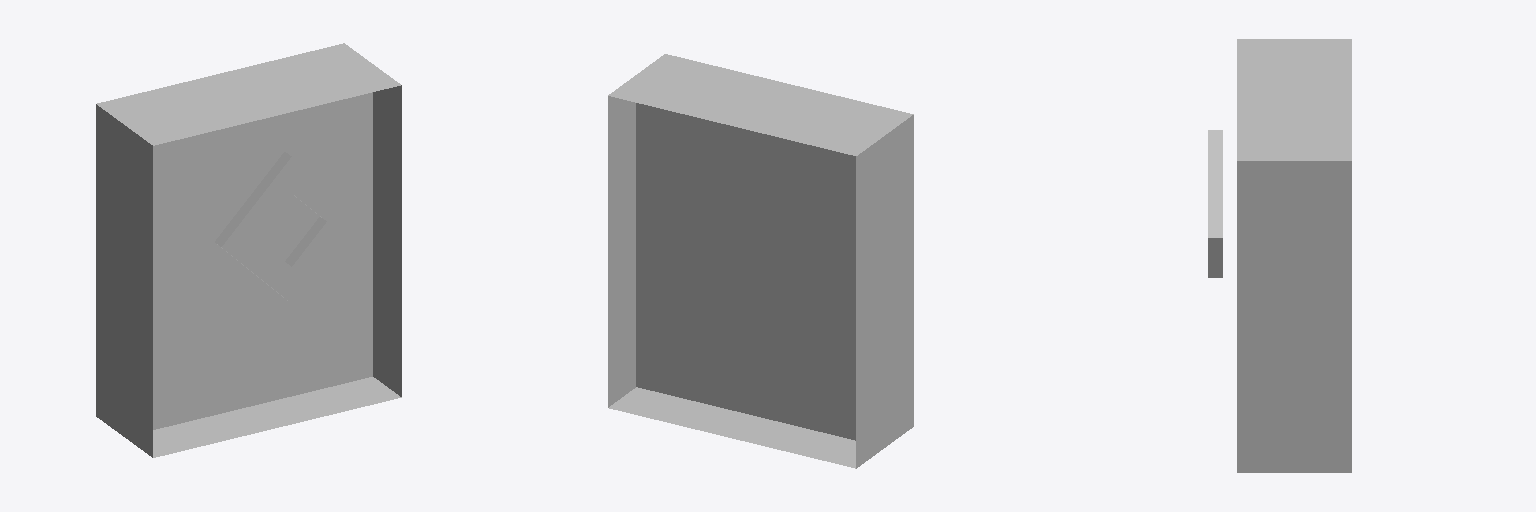
File: spellbook_closed.obj
3 views of the same model, side by side, from view 1: azimuth 30°, elevation 25°; view 2: azimuth 150°, elevation 25°; view 3: azimuth 270°, elevation 25° (orthographic).
Visible parts, largest first — view 1: PAGES_FRONT_CLOSED_Cube.002, PAGES_BACK_CLOSED_Cube.008, COVERDECO_VAR1_CLOSED_Cube; view 2: PAGES_BACK_CLOSED_Cube.008, PAGES_FRONT_CLOSED_Cube.002; view 3: PAGES_BACK_CLOSED_Cube.008, PAGES_FRONT_CLOSED_Cube.002, COVERDECO_VAR1_CLOSED_Cube.
Boxes of the visible parts, <box> form: PAGES_FRONT_CLOSED_Cube.002: <box>124,64,401,457</box>; PAGES_BACK_CLOSED_Cube.008: <box>96,43,372,436</box>; COVERDECO_VAR1_CLOSED_Cube: <box>215,152,361,303</box>; PAGES_BACK_CLOSED_Cube.008: <box>608,75,884,468</box>; PAGES_FRONT_CLOSED_Cube.002: <box>636,54,913,447</box>; PAGES_BACK_CLOSED_Cube.008: <box>1294,39,1351,472</box>; PAGES_FRONT_CLOSED_Cube.002: <box>1237,39,1293,472</box>; COVERDECO_VAR1_CLOSED_Cube: <box>1208,130,1222,277</box>.
Bounding box in the file's own units: 0.625 × 0.75 × 0.3125.